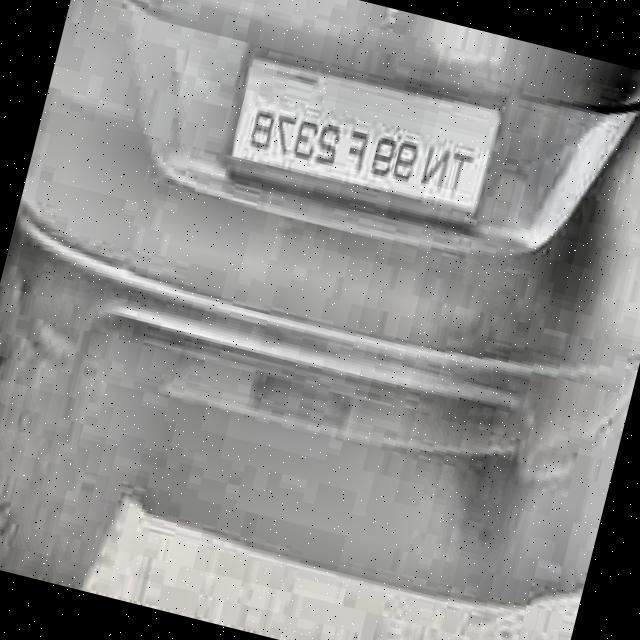license_plate: (220, 48, 502, 237)
